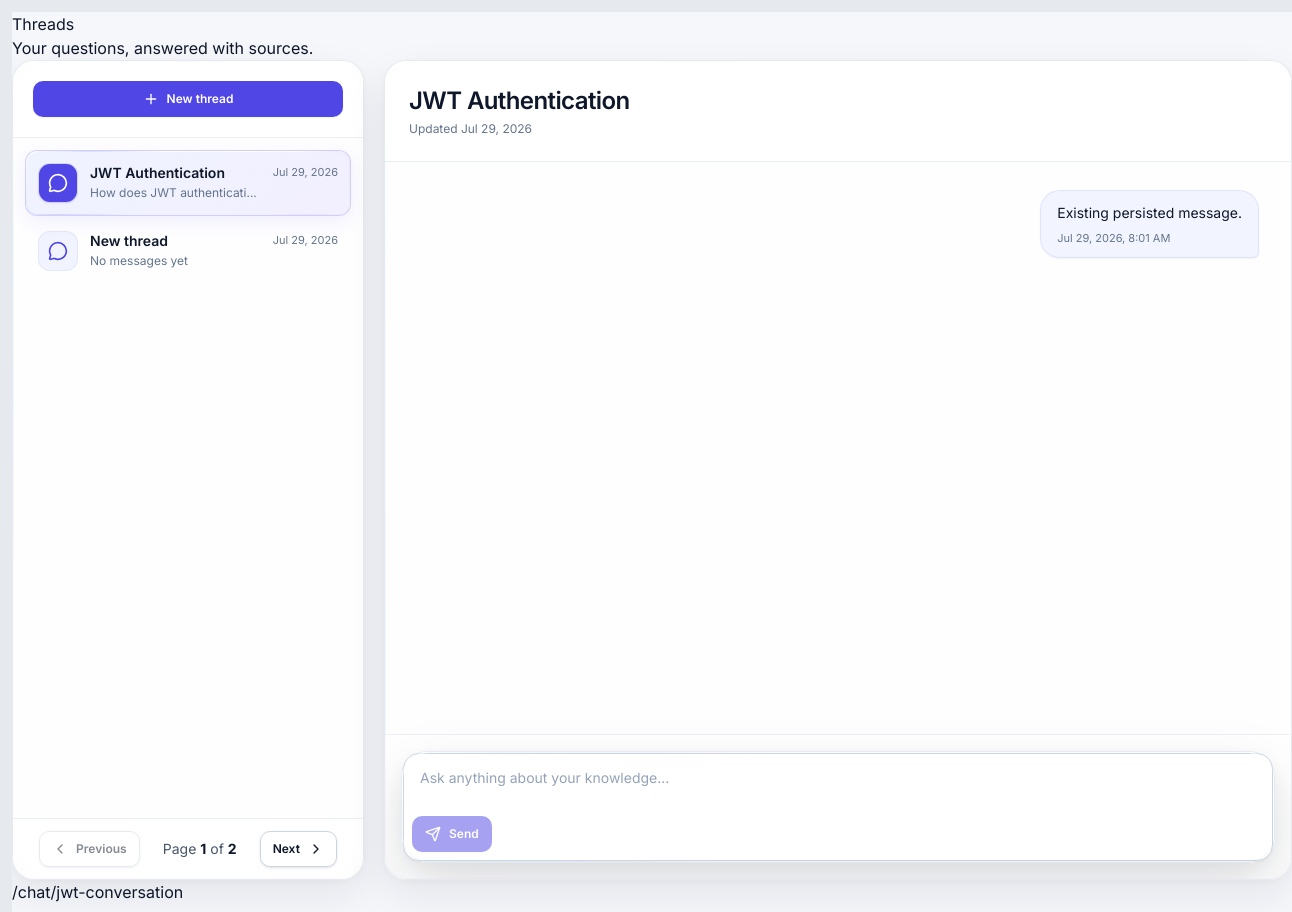
Scenario: Threads page › keeps the draft and shows no fake ASSISTANT message after a compensated AI failure
Type "Question that should be retried" into the text box named "Message" at {"x": 838, "y": 786}, box [412,762,1264,810]
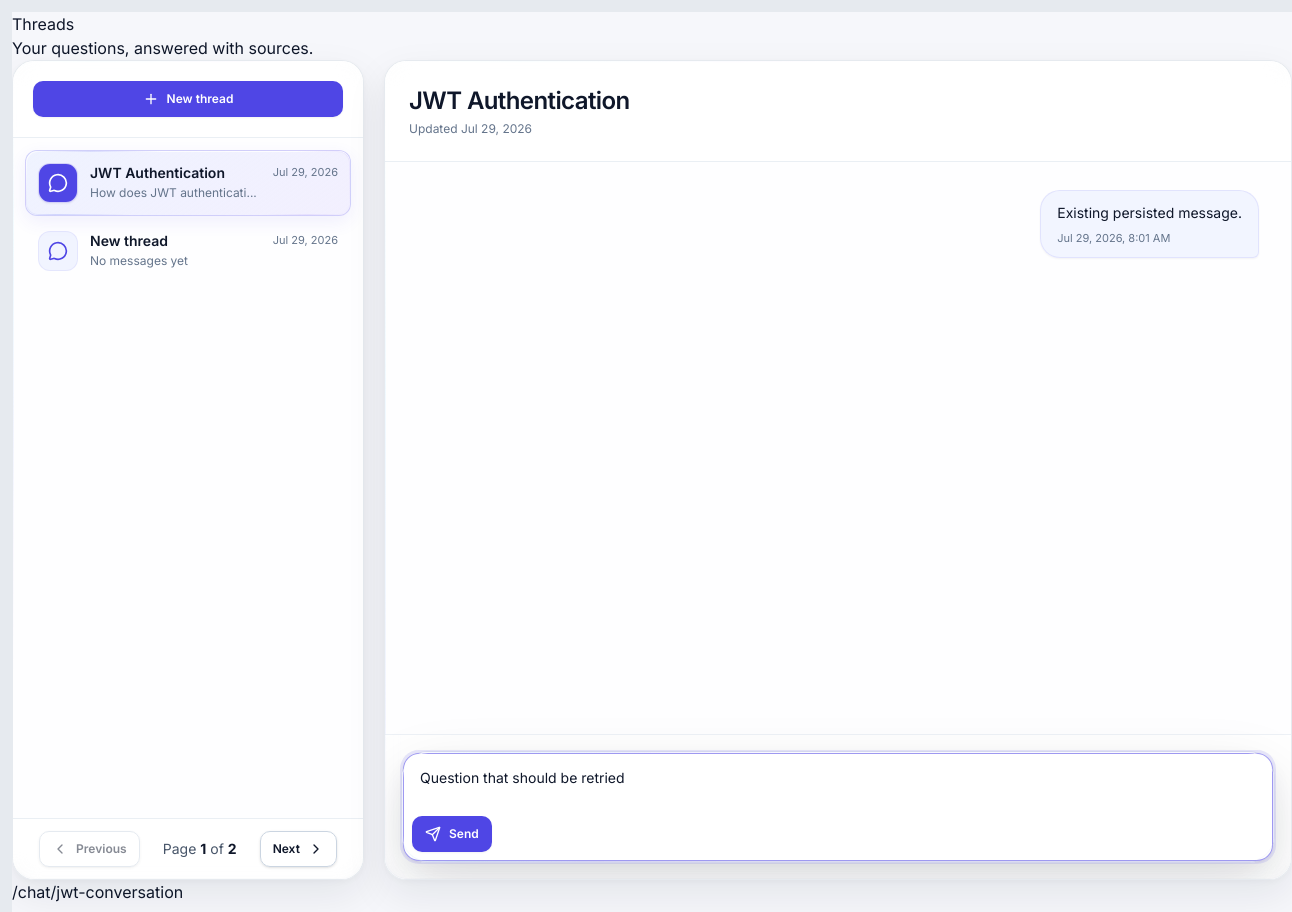
Click the button with aria-label "Send message" at {"x": 452, "y": 834}, box [412,816,492,852]
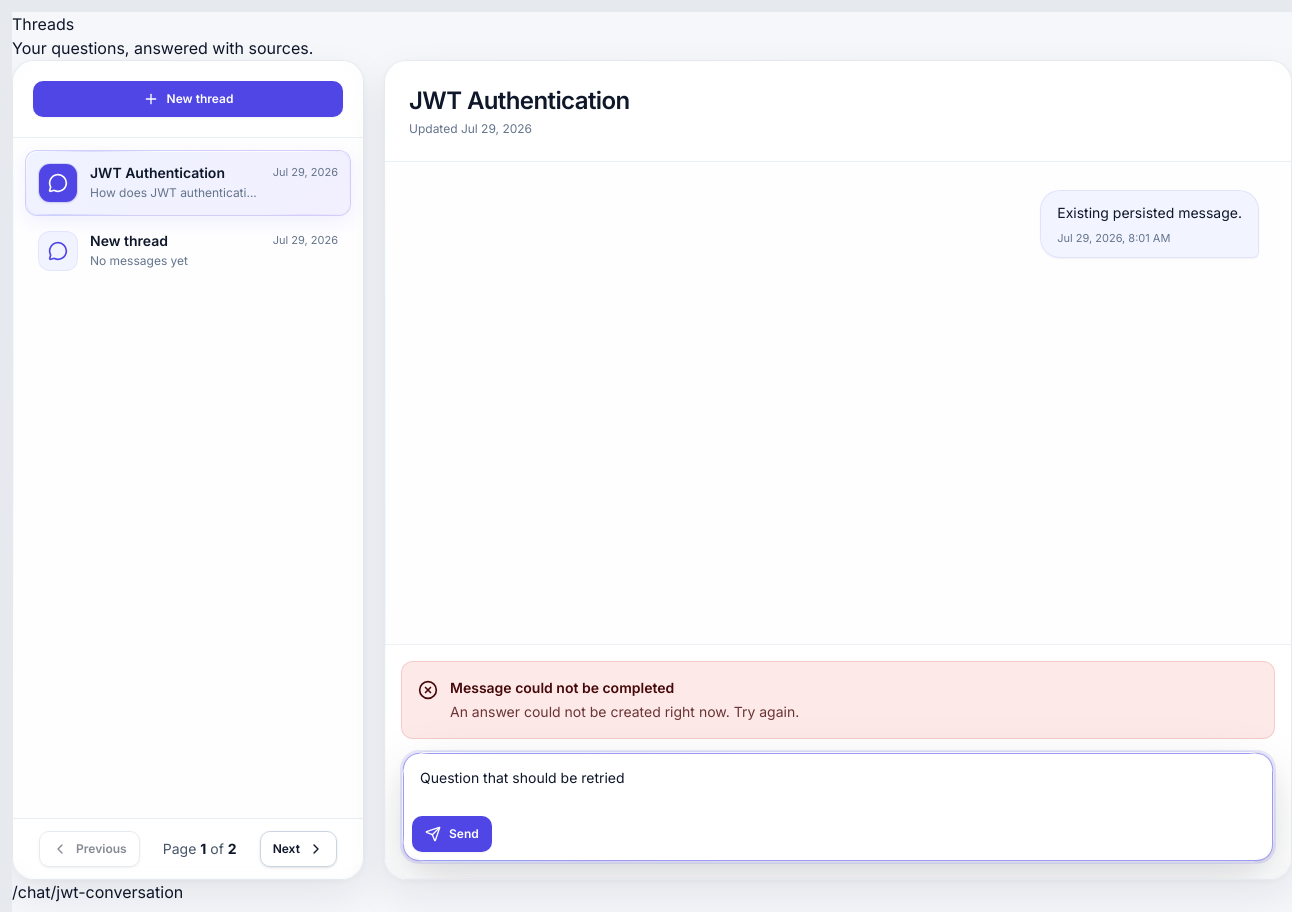
Expected: the message shows "An answer could not be created right now. Try again.", [450,703,799,720]
